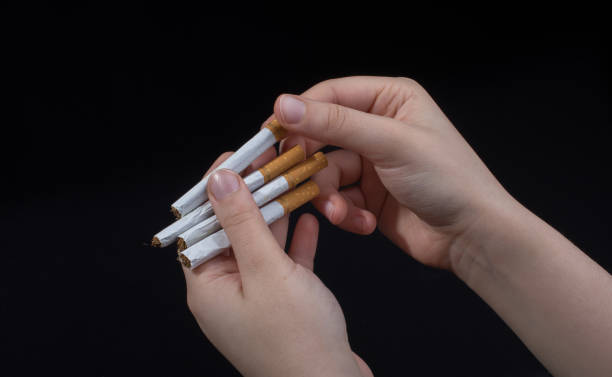cigarette: (149, 143, 306, 249), (176, 151, 328, 251), (146, 116, 289, 220), (178, 179, 323, 270)
